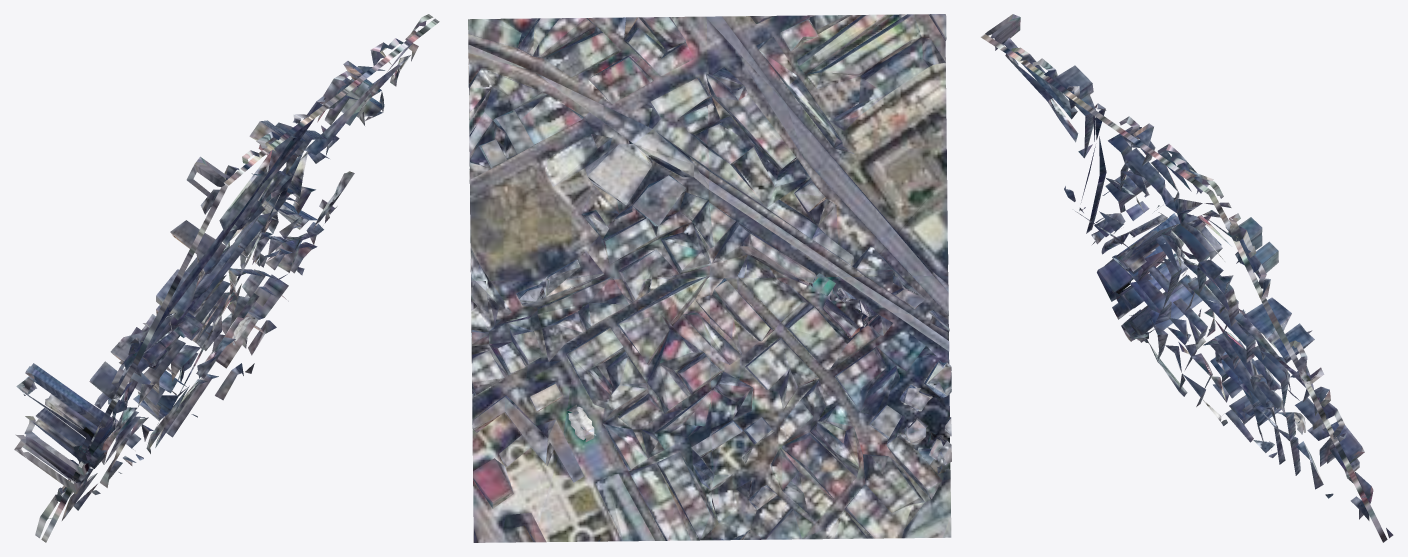
The picture shows the model from 3 angles, left to right: view 1: azimuth 30°, elevation 25°; view 2: azimuth 150°, elevation 25°; view 3: azimuth 270°, elevation 25°; orthographic projection. The views are drawn at different scales.
Bounding box in the file's own units: 632 × 575 × 524.
Materials: 1 (1 with a texture image).
